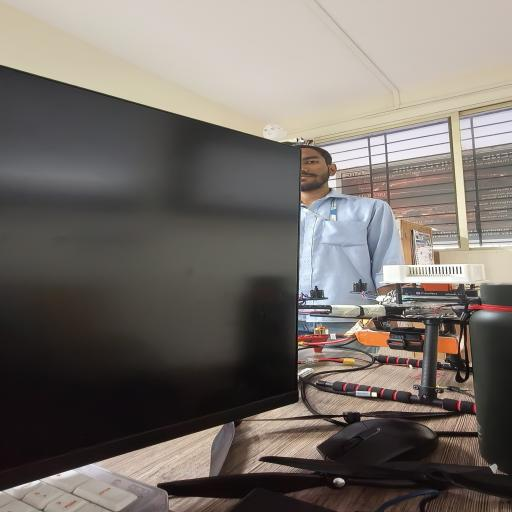survivor: (295, 144, 405, 335)
